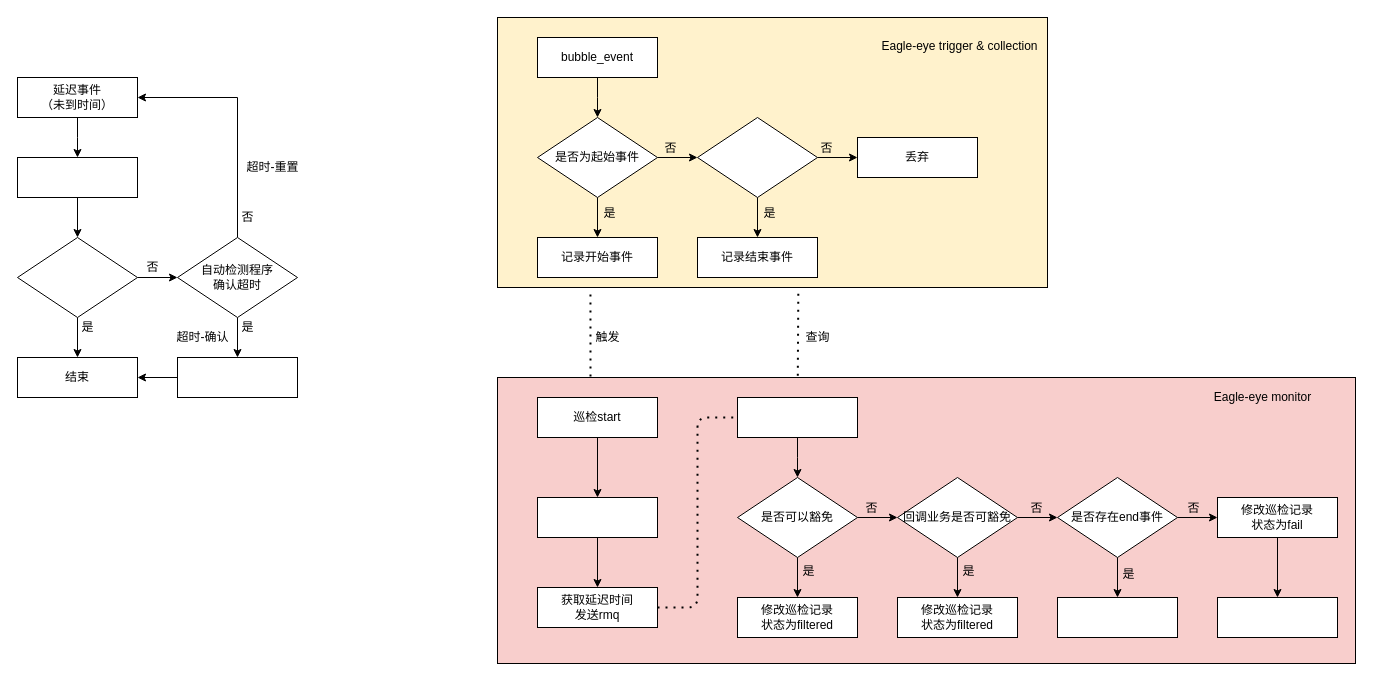
This 1373x681 diagram has some shape labels left out. Here are the shapes that lost their labels. From the top down, the centre of each, then its label:
point (77, 177): 到达约定时间
point (757, 157): 是否为结束事件
point (77, 277): 是否存在结束事件
point (237, 377): 发送消息
point (797, 417): 巡检check
point (597, 517): 创建巡检记录 状态为start
point (1117, 617): 修改巡检记录 状态为end
point (1277, 617): lark通知
